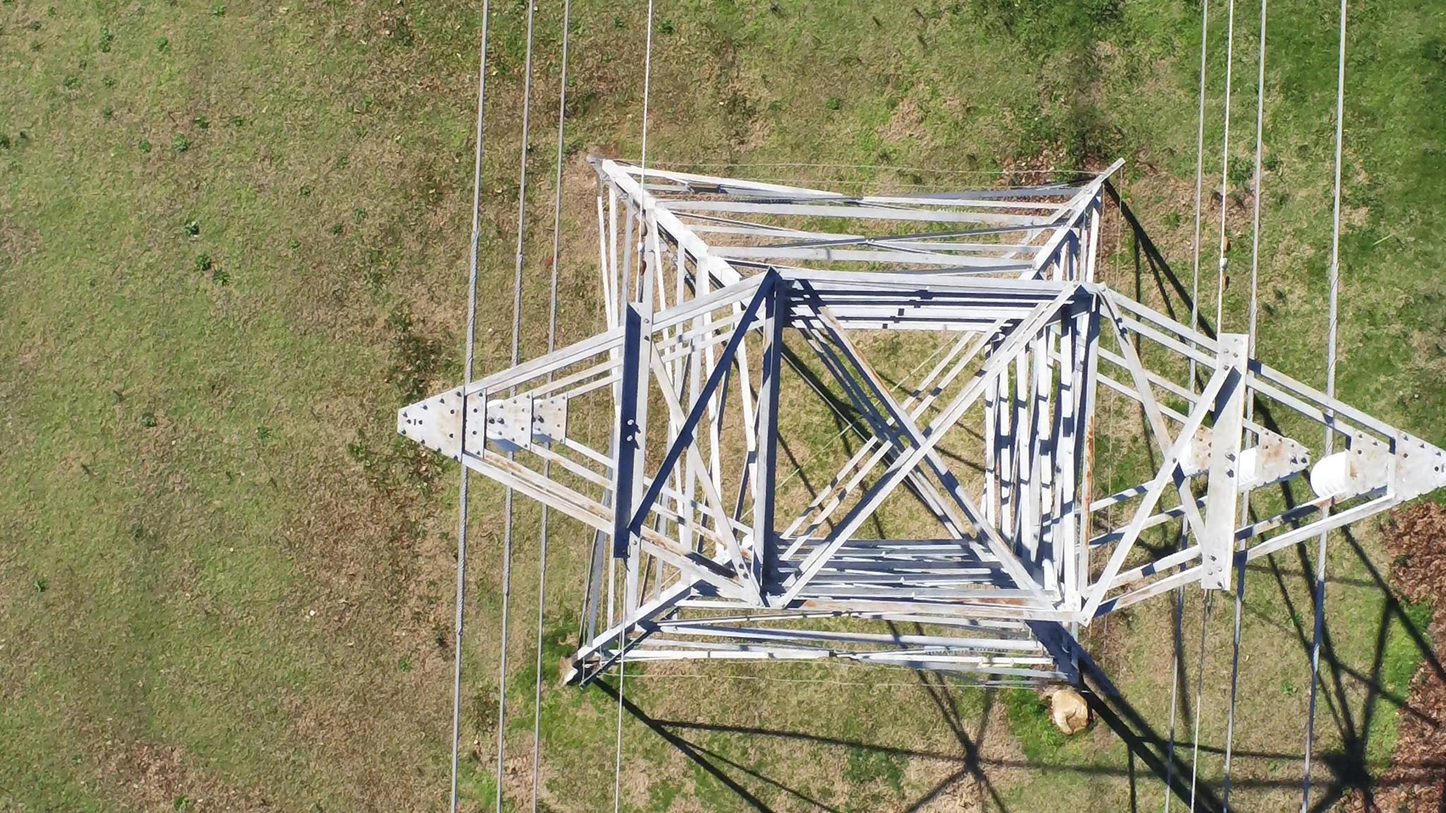tower: (391, 151, 1446, 690)
